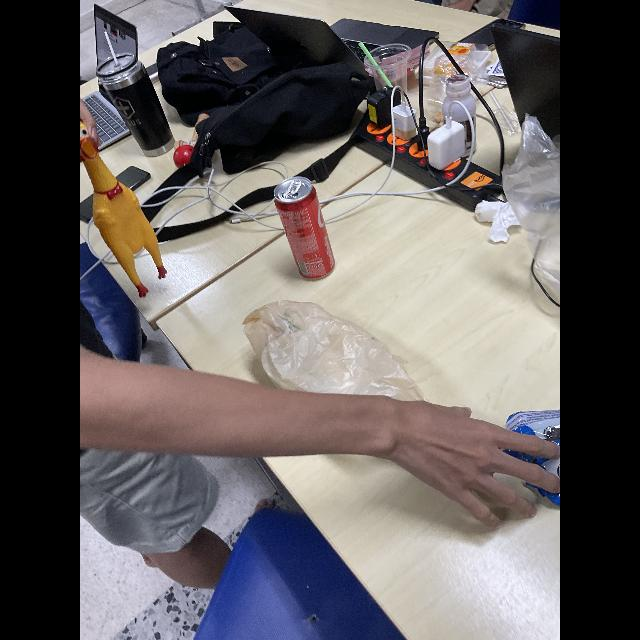can: (274, 176, 338, 282)
plastic_bag: (242, 297, 430, 411), (498, 112, 560, 306)
plastic_bottle: (440, 74, 480, 158)
plastic_box: (416, 38, 494, 90)
plastic_cup: (358, 41, 412, 118)
scrap_paper: (472, 197, 526, 245)
snack_bag: (504, 404, 560, 506)
straw: (356, 38, 396, 92), (488, 88, 516, 136)
